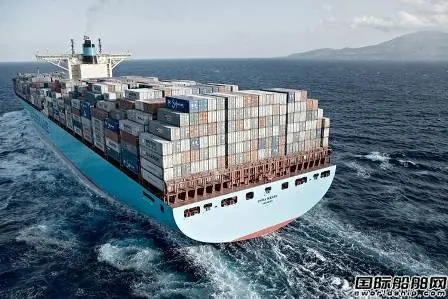Cargoship: (10, 32, 337, 243)
